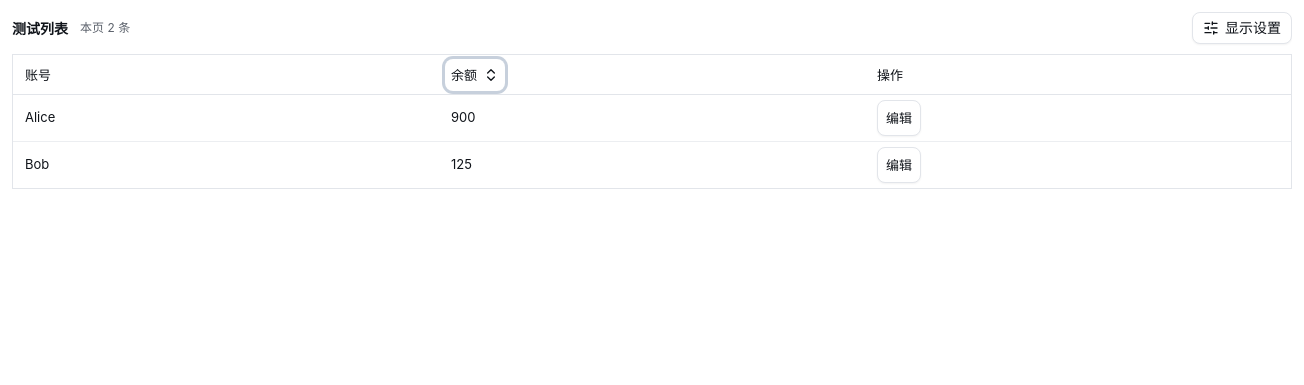
Test: keeps the active server sort discoverable after hiding that column and can reset it
Press Enter in the button "余额", box [445,59,505,91]
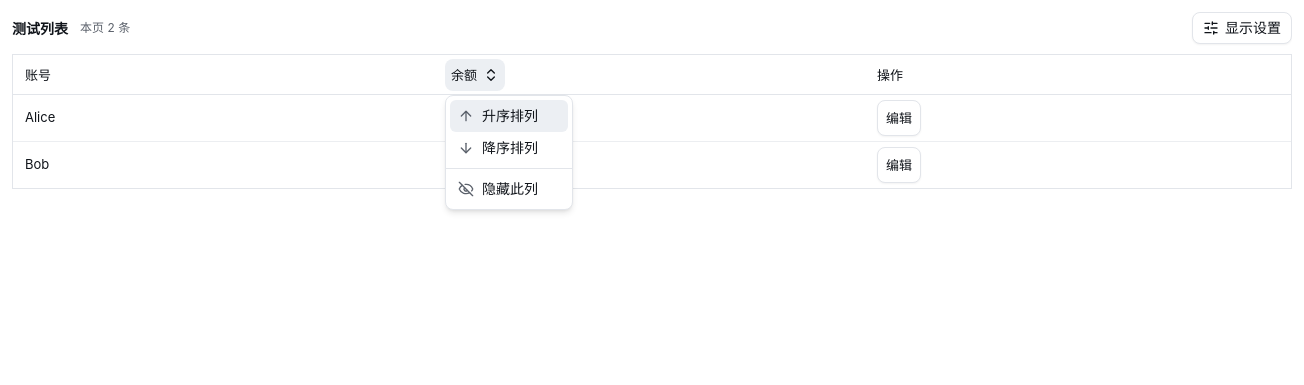
Now the menu item "升序排列" is shown
Click the menu item "升序排列" at [509, 116], box [450,100,568,132]
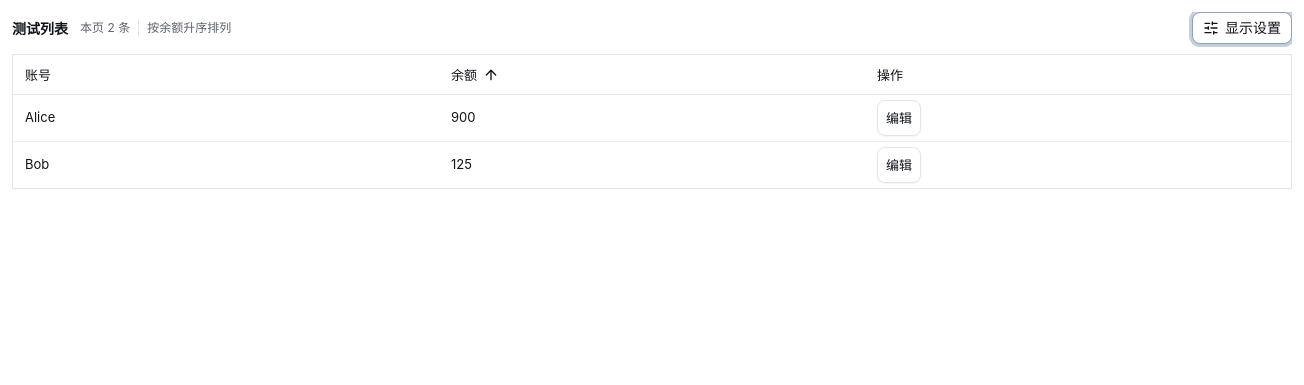
Press Enter in the button with aria-label "测试列表显示设置", box [1192,12,1292,44]
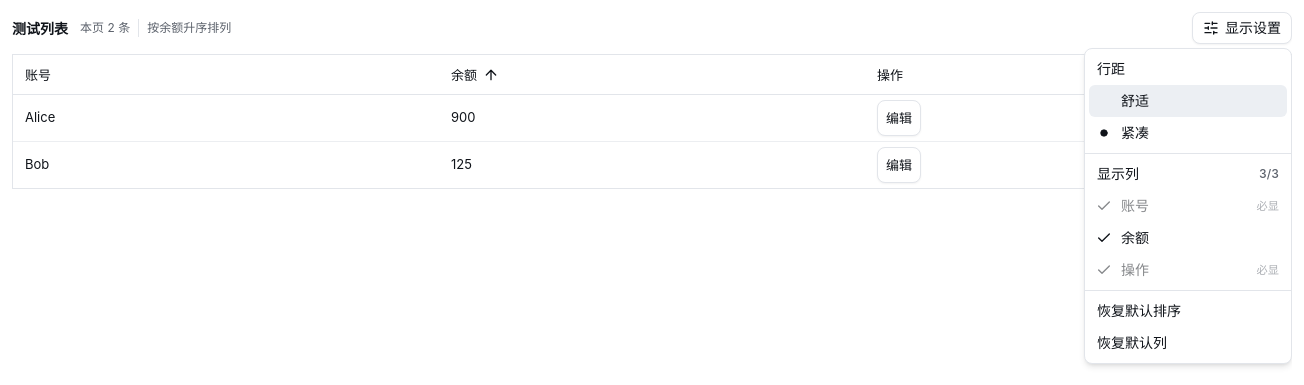
Click the menu item with aria-label "显示余额" at [1122, 238], box [1096,229,1149,246]
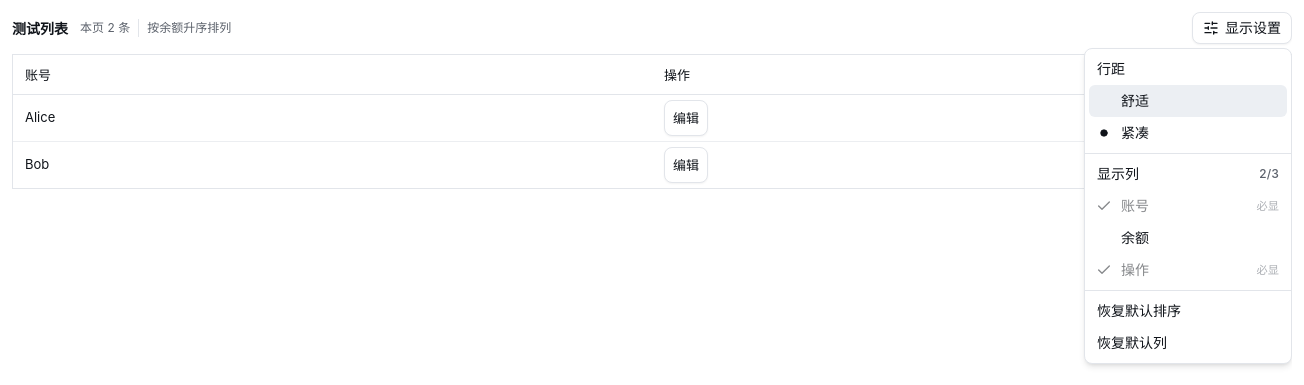
Now the text "按余额升序排列" is shown, box [138,19,231,37]
Now the menu item "恢复默认排序" is shown
Click the menu item "恢复默认排序" at [1139, 310], box [1097,302,1181,319]
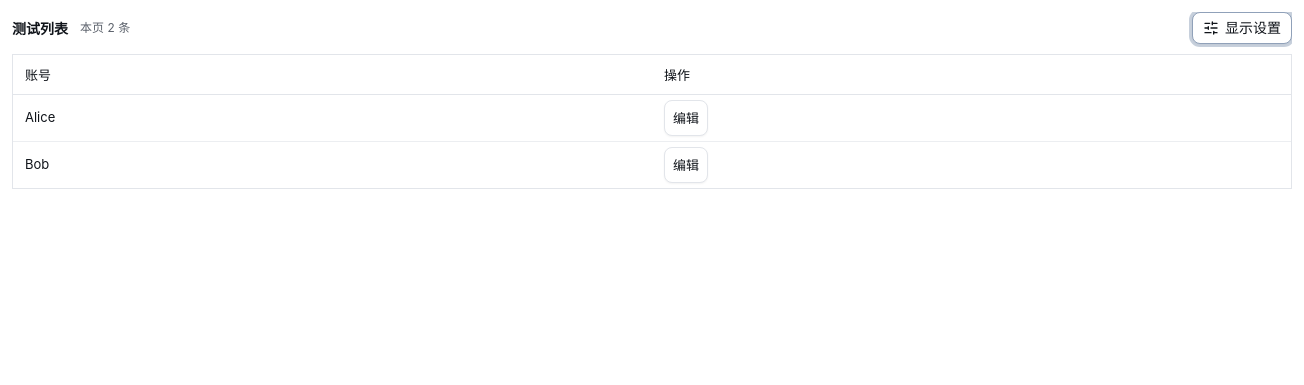
Now the text "按余额升序排列" is gone
